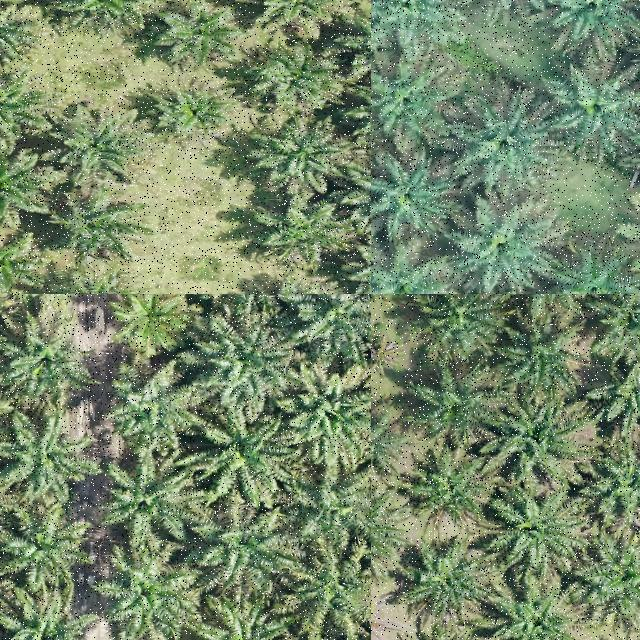Ganoderma: (115, 294, 179, 345)
